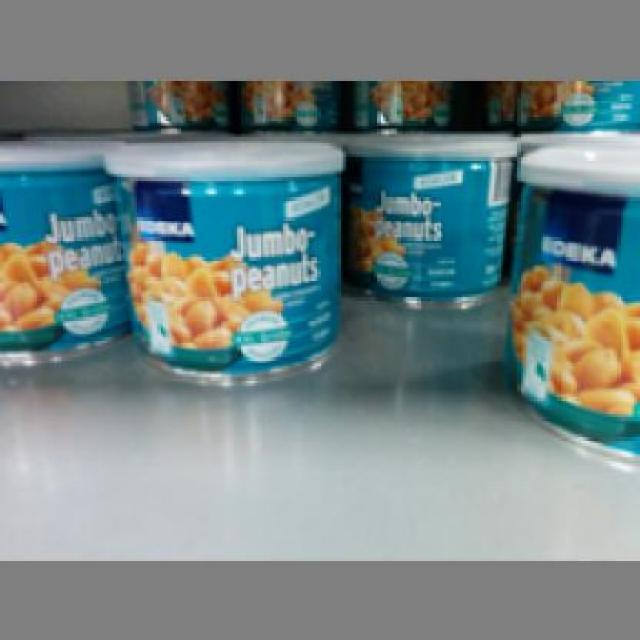Nuts: (100, 137, 343, 383), (494, 142, 637, 455), (337, 128, 517, 312), (0, 140, 129, 363)
